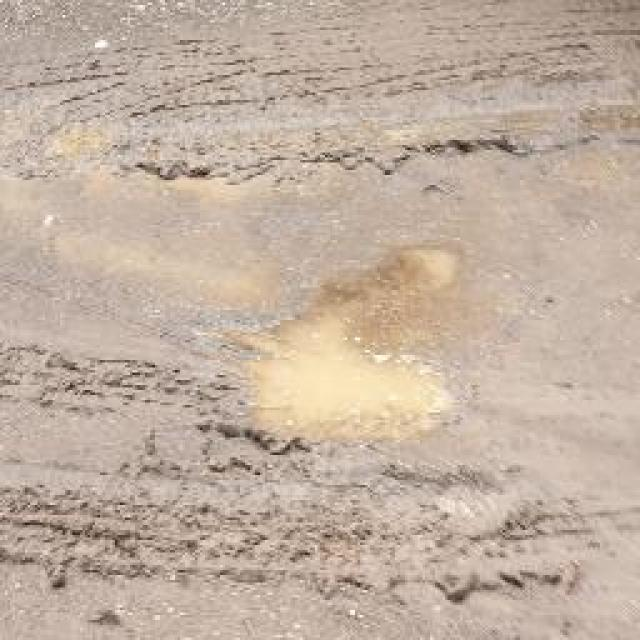puddle: (241, 319, 452, 439)
